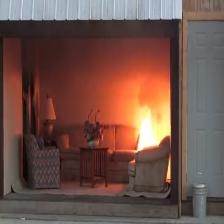fire: (136, 109, 159, 151)
